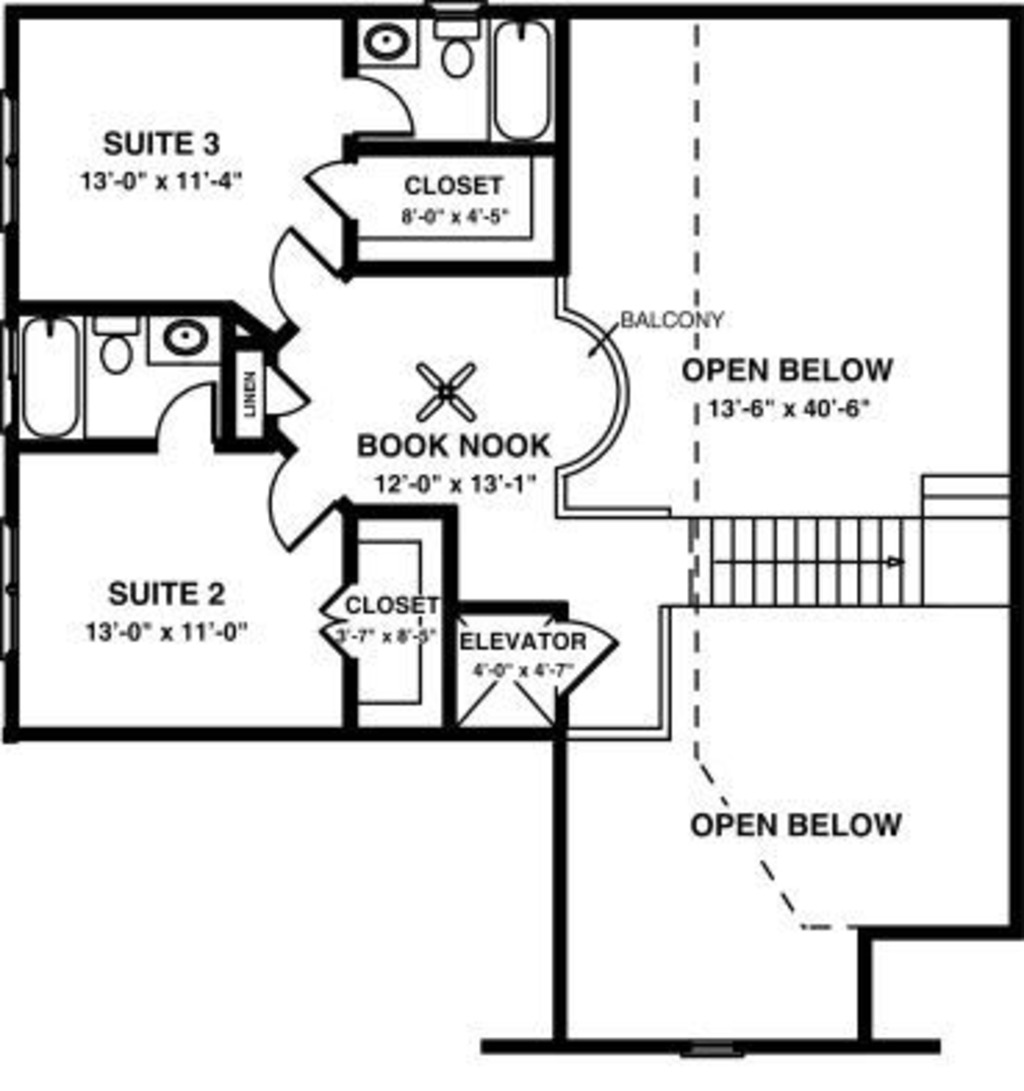door: (258, 442, 346, 557), (259, 220, 337, 339), (286, 146, 366, 229), (546, 615, 624, 698), (152, 374, 222, 454), (339, 79, 417, 140), (312, 583, 366, 654), (259, 362, 317, 420)
large_sink: (419, 5, 483, 85), (90, 315, 137, 379)
small_sink: (136, 307, 220, 366), (347, 12, 425, 66)
stairs: (680, 471, 1019, 608)
tub: (22, 315, 83, 442), (493, 13, 549, 139)
window: (1, 93, 17, 229), (2, 320, 12, 440), (3, 520, 10, 661)
